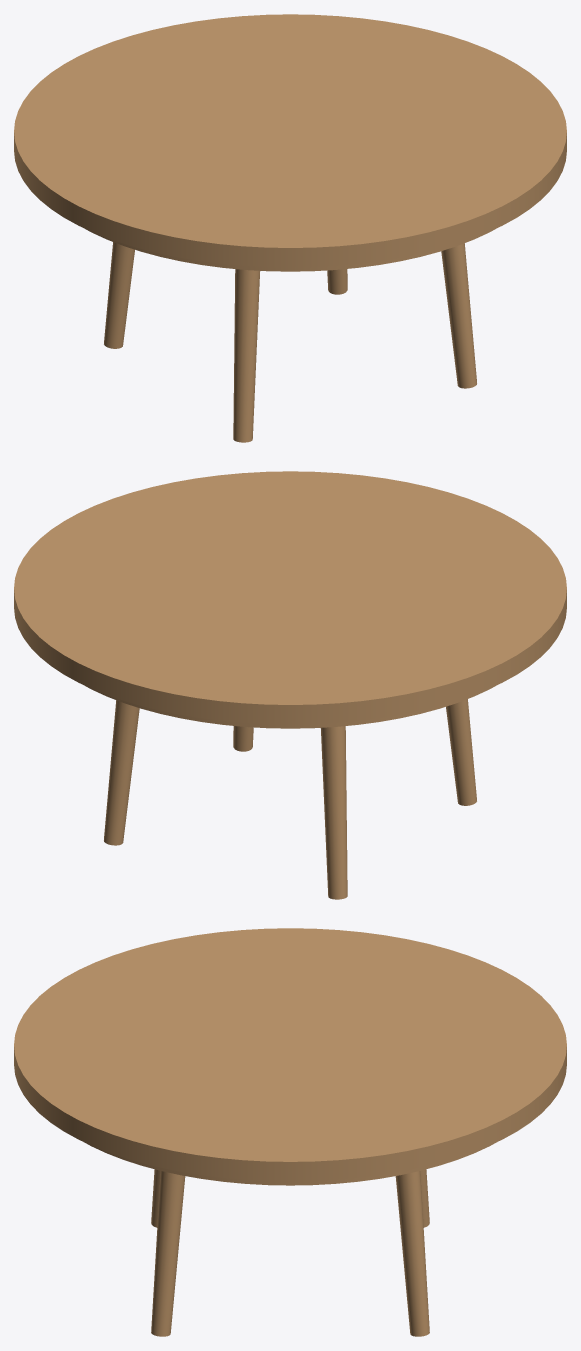
Rendered from table.glb.
The picture shows the model from 3 angles, top to bottom: view 1: azimuth 30°, elevation 25°; view 2: azimuth 150°, elevation 25°; view 3: azimuth 270°, elevation 25°; orthographic projection.
Bounding box in the file's own units: 0.9 × 0.4206 × 0.9.
